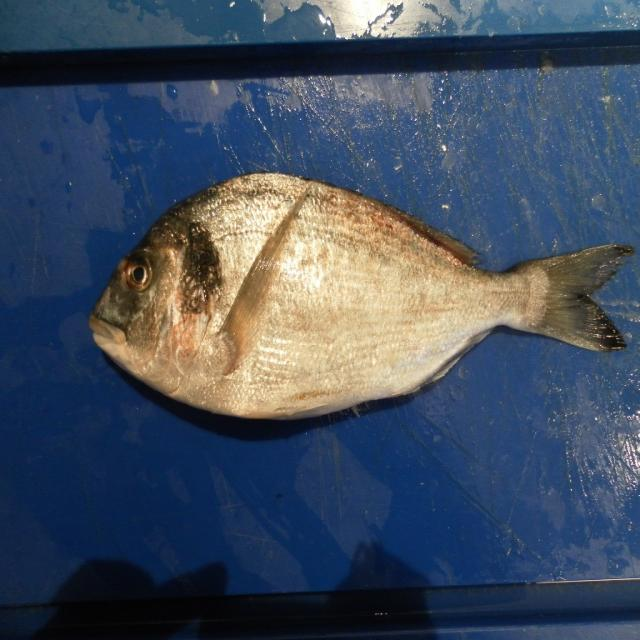Gilt-Head-Bream-c-ipura-: (88, 172, 632, 424)
